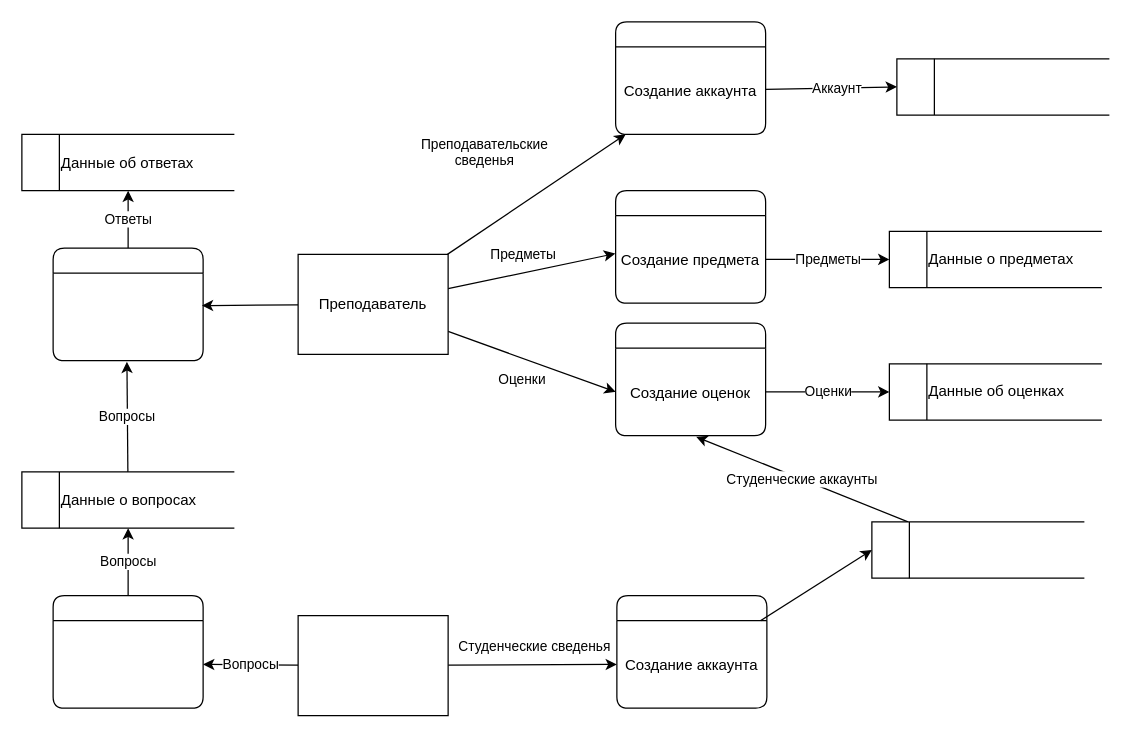
Image size: 1131x738. Some labels were removed from this diagram. The shapes that lost their labels are listed below. From the top down, each one's centre as x and y in pixels, then its label:
At (x=1002, y=86): "Данные о преводателях".
At (x=127, y=304): "Создание ответов".
At (x=977, y=549): "Данные об студентах".
At (x=127, y=651): "Создание вопросов".
At (x=372, y=665): "Студент".
